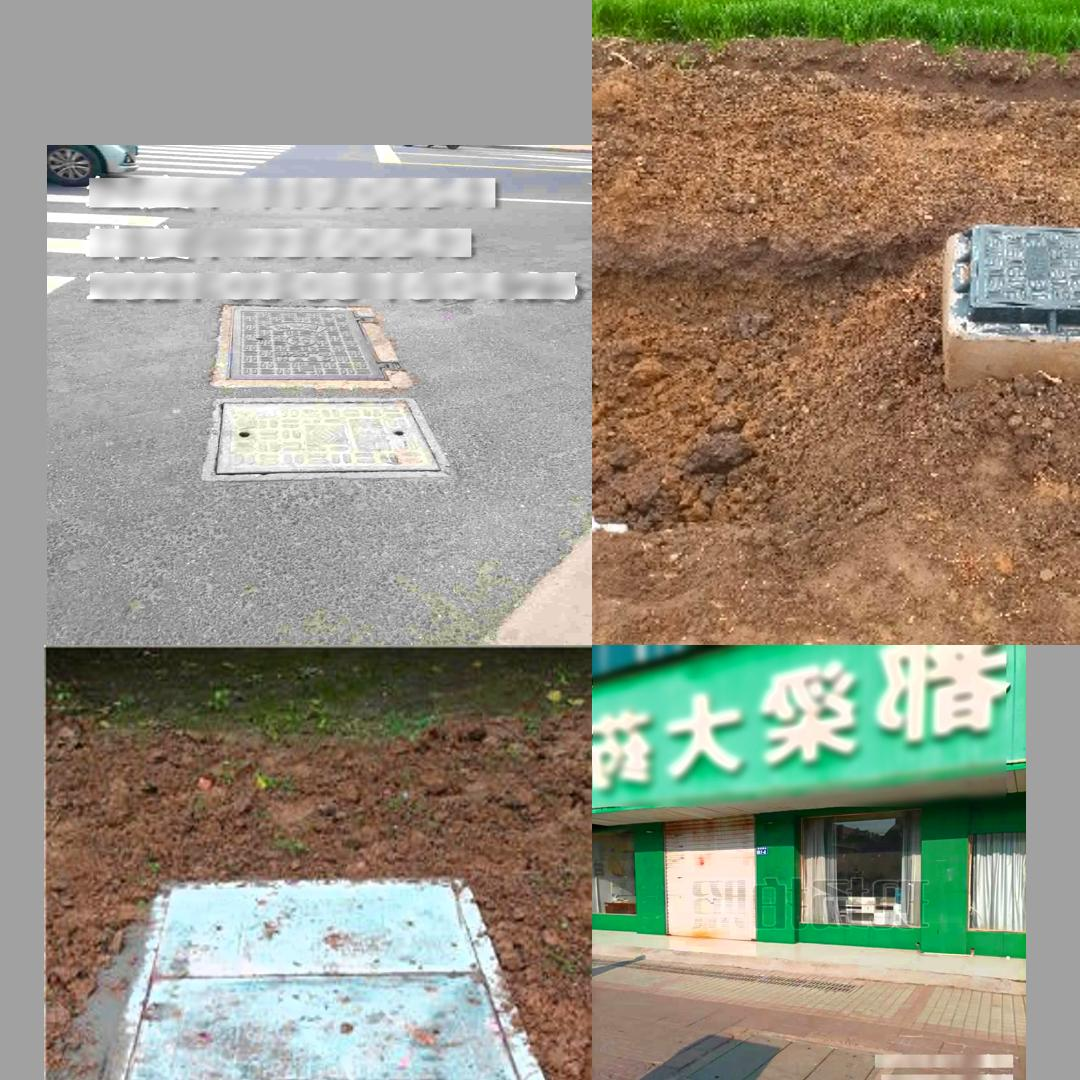good: (151, 859, 526, 1080), (201, 398, 453, 478), (227, 304, 407, 383), (944, 217, 1080, 318), (677, 1029, 888, 1080)
